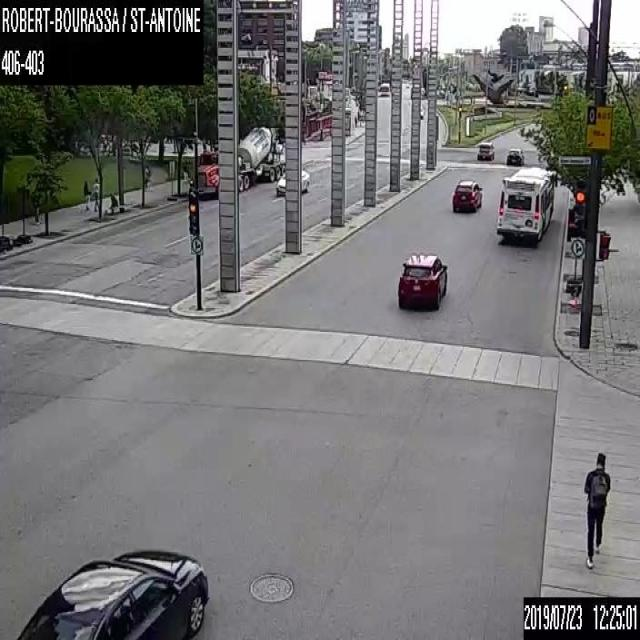bus: (496, 166, 556, 242), (379, 81, 389, 96)
pedestrian: (582, 452, 610, 567), (91, 176, 101, 212), (82, 178, 91, 211), (108, 190, 118, 215), (144, 165, 152, 191), (353, 114, 357, 126)
vehicle: (16, 548, 208, 639), (188, 124, 285, 195), (396, 250, 448, 306), (451, 177, 482, 212), (276, 169, 309, 193), (476, 140, 494, 161), (506, 147, 523, 164), (420, 105, 423, 118)
